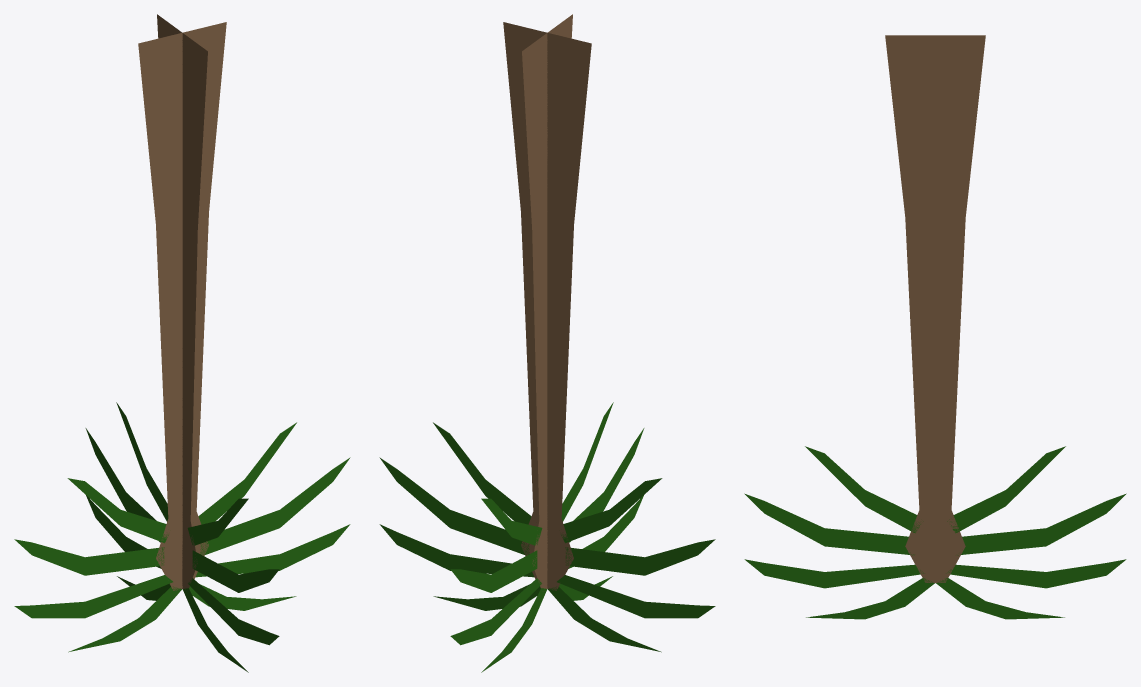
The model's file is tre6.obj.
The picture shows the model from 3 angles, left to right: view 1: azimuth 30°, elevation 25°; view 2: azimuth 150°, elevation 25°; view 3: azimuth 270°, elevation 25°; orthographic projection.
Bounding box in the file's own units: 570 × 960 × 570.
